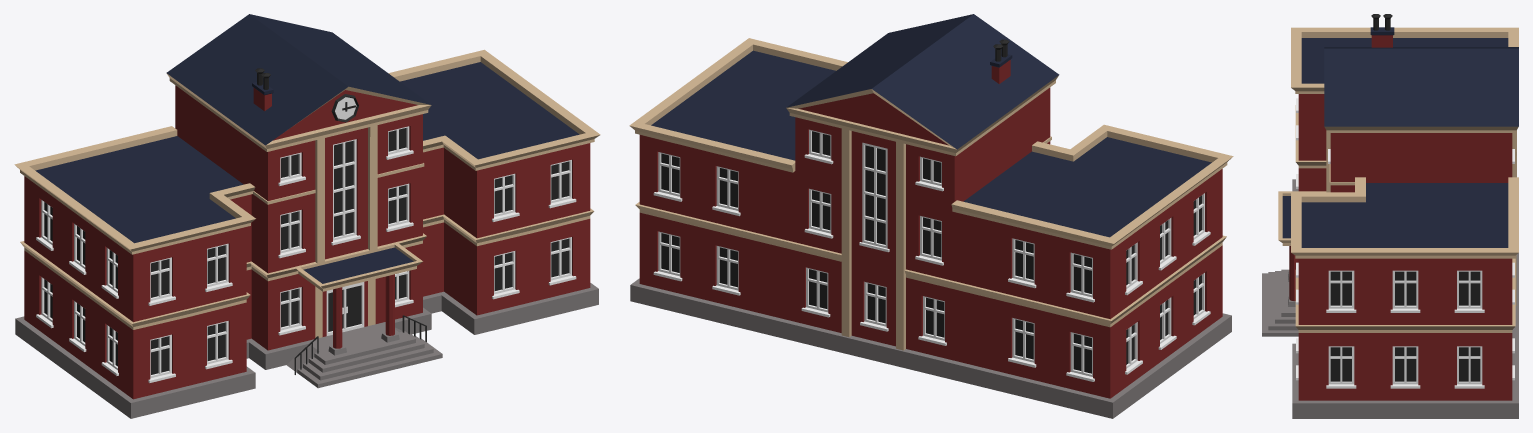
Rendered from buildings_building-school.fbx.
The picture shows the model from 3 angles, left to right: view 1: azimuth 30°, elevation 25°; view 2: azimuth 150°, elevation 25°; view 3: azimuth 270°, elevation 25°; orthographic projection. The views are drawn at different scales.
Parts seen in each view (by area): view 1: buildings_building_school; view 2: buildings_building_school; view 3: buildings_building_school.
Boxes of the visible parts, <box> form: buildings_building_school: <box>14,14,600,418</box>; buildings_building_school: <box>629,14,1233,418</box>; buildings_building_school: <box>1262,14,1518,418</box>.
Bounding box in the file's own units: 200 × 110 × 96.43.
